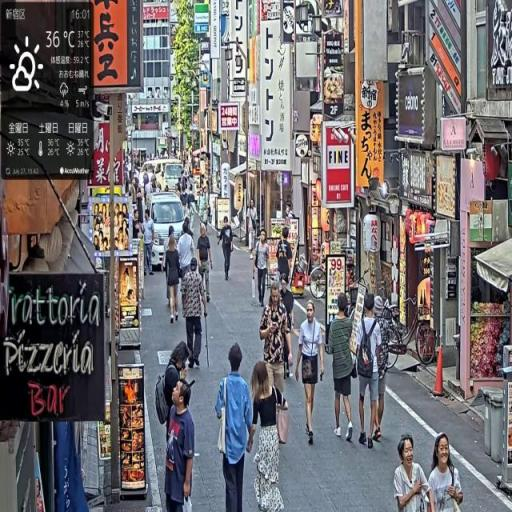person: (215, 342, 256, 512), (248, 361, 291, 512), (296, 299, 328, 449), (355, 295, 385, 450), (329, 294, 359, 444), (164, 376, 196, 512), (261, 282, 292, 407), (181, 256, 209, 372), (395, 433, 433, 512), (428, 433, 465, 512), (280, 274, 296, 382), (165, 234, 182, 326), (196, 224, 214, 301), (256, 231, 272, 310), (218, 214, 236, 282), (142, 209, 156, 275)
